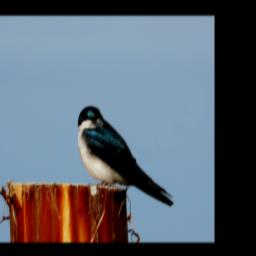Swallow: (77, 105, 175, 209)
